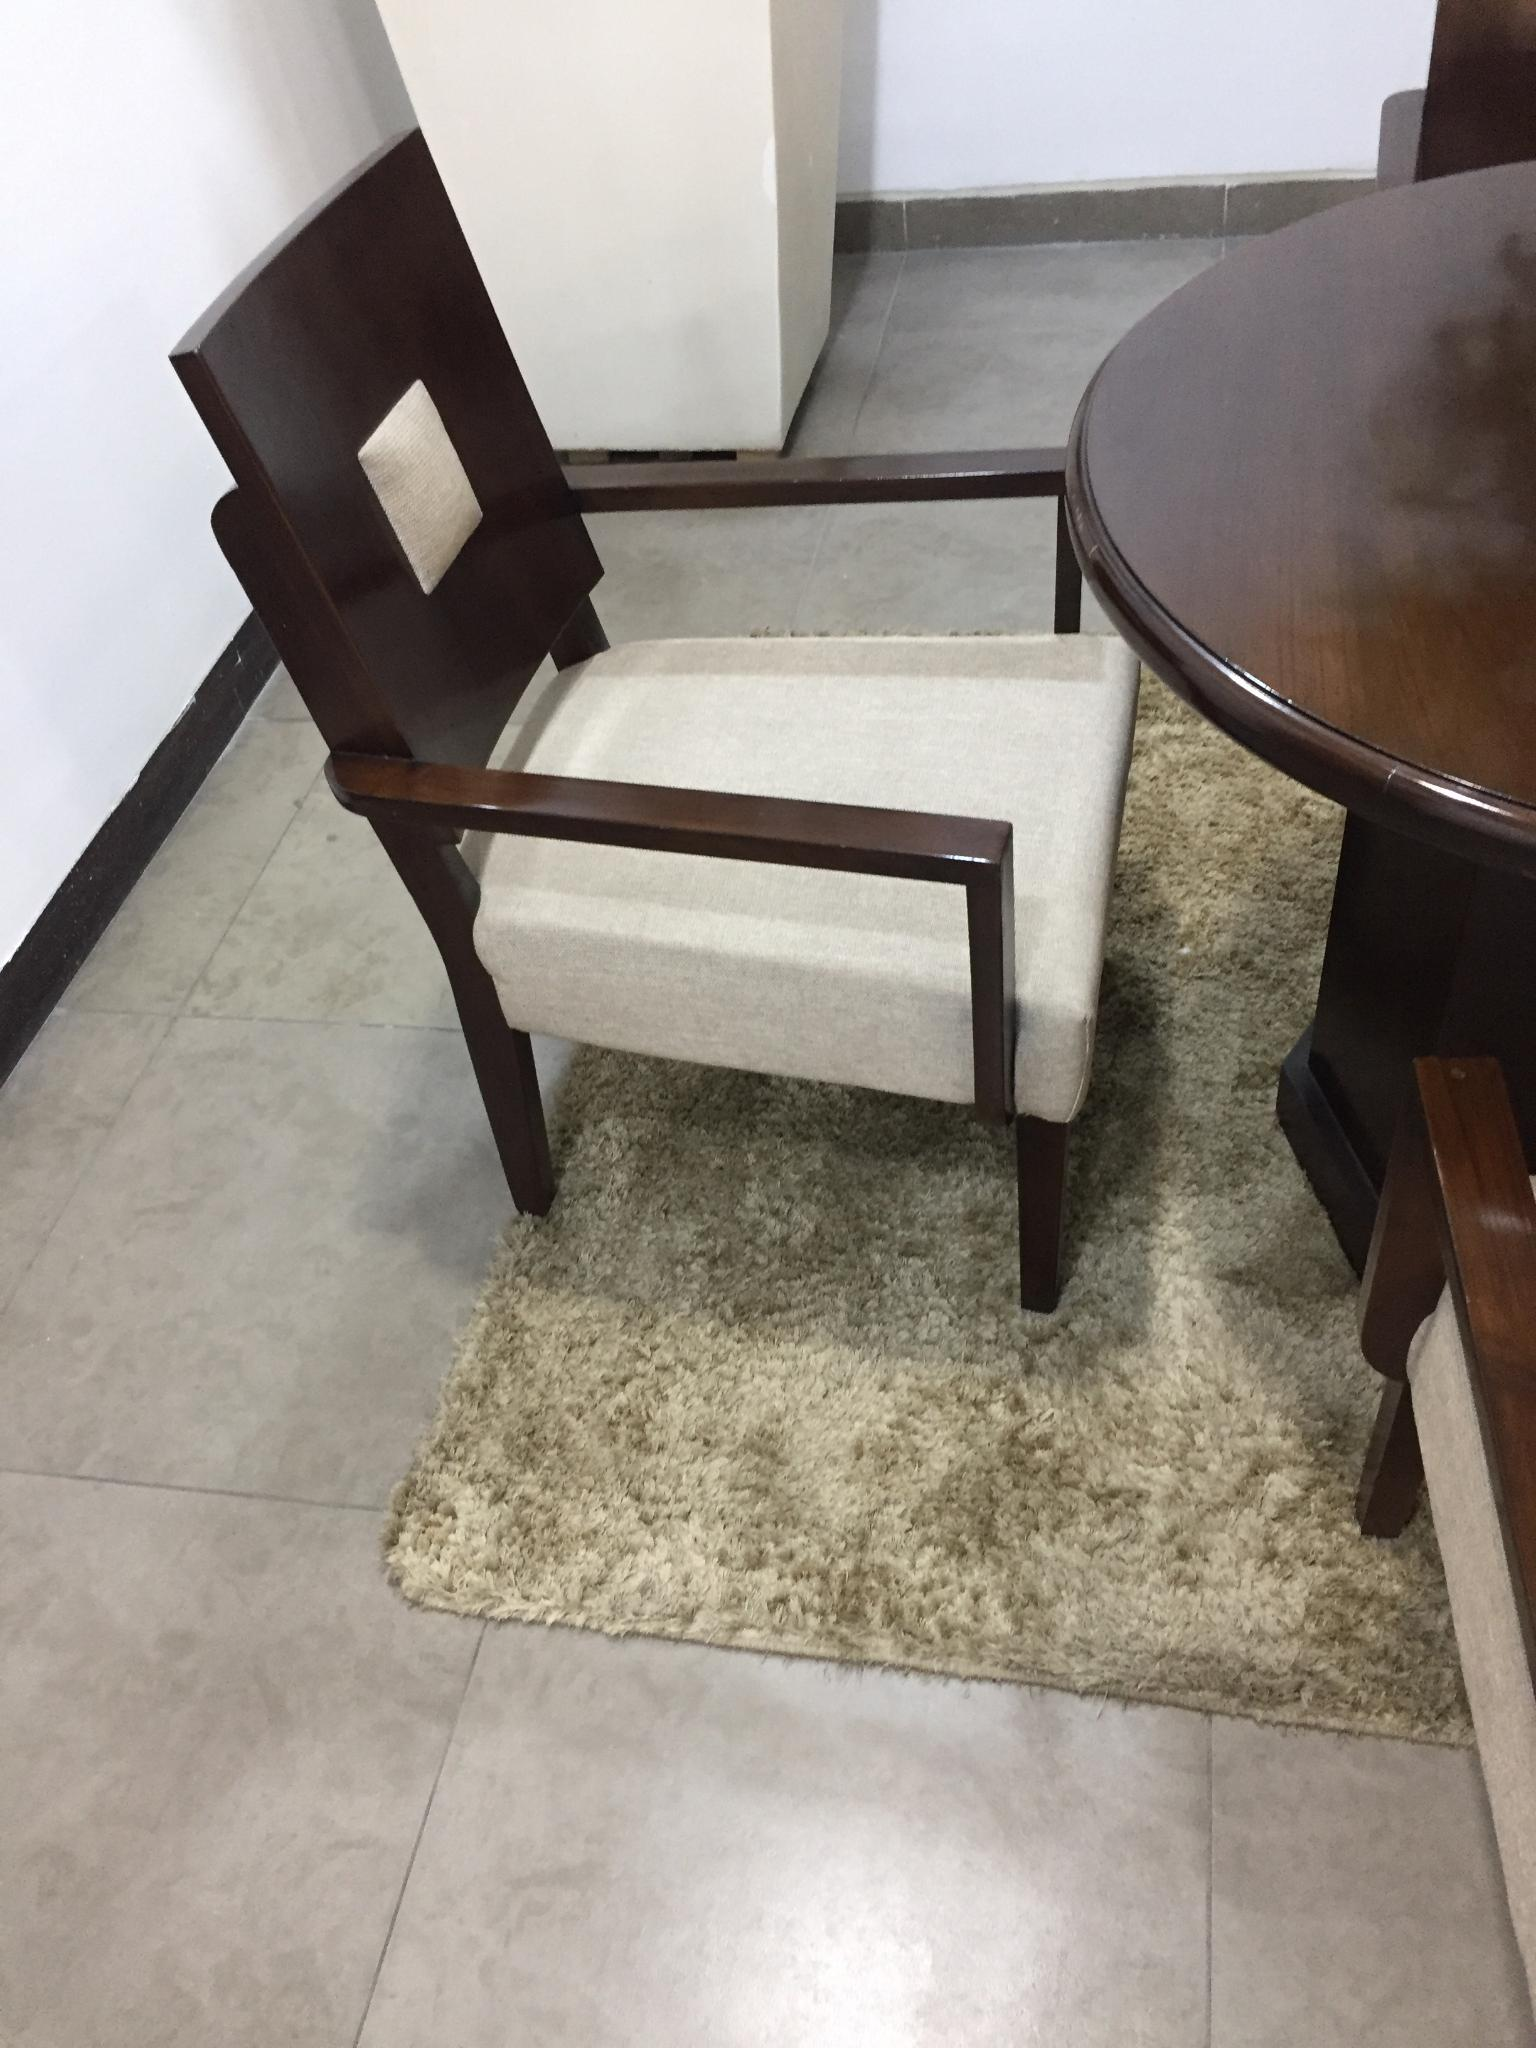chair: (166, 124, 1141, 1314)
